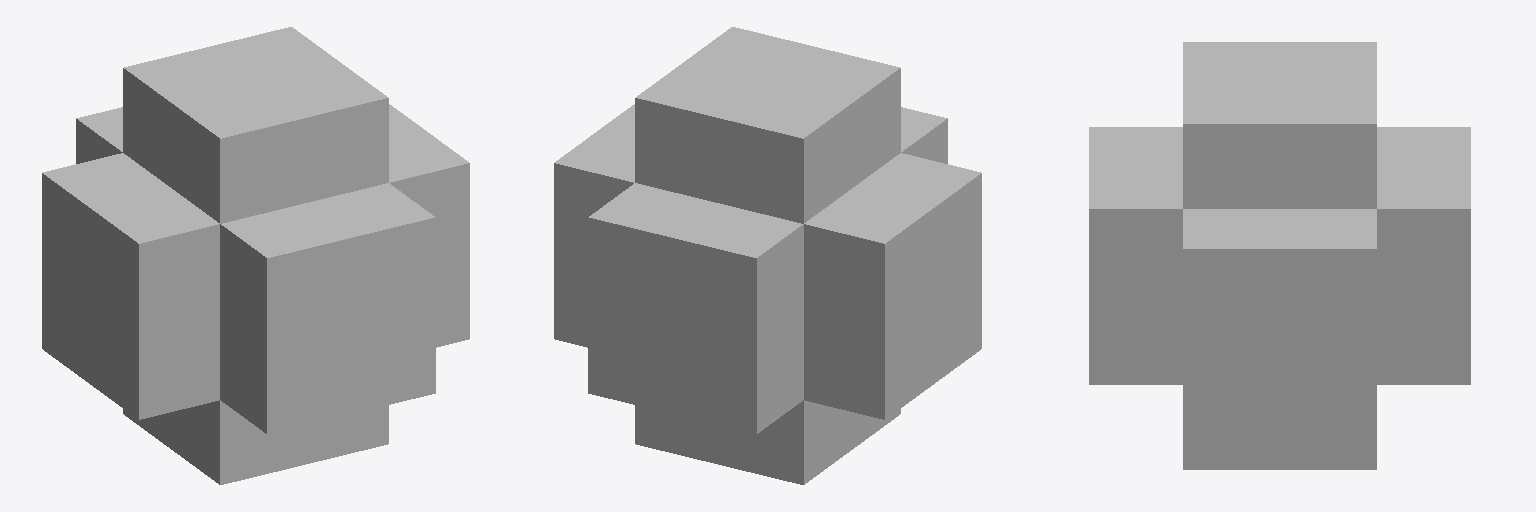
The model's file is bullet.obj.
The picture shows the model from 3 angles: view 1: azimuth 30°, elevation 25°; view 2: azimuth 150°, elevation 25°; view 3: azimuth 270°, elevation 25°; orthographic projection.
Parts seen in each view (by area): view 1: Bullet; view 2: Bullet; view 3: Bullet.
Part boxes in pixels (bbox=[...]): Bullet: bbox=[42, 27, 469, 484]; Bullet: bbox=[554, 27, 981, 484]; Bullet: bbox=[1089, 42, 1470, 469].
Size of the model in its own units: 0.0557 by 0.0557 by 0.0557.